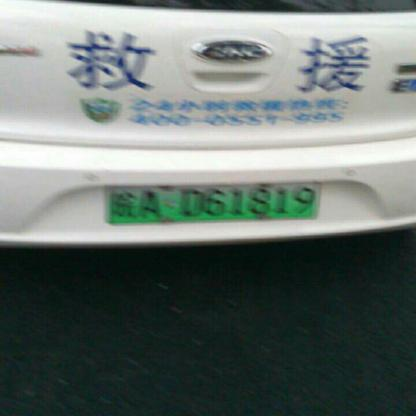lp: (109, 181, 318, 221)
